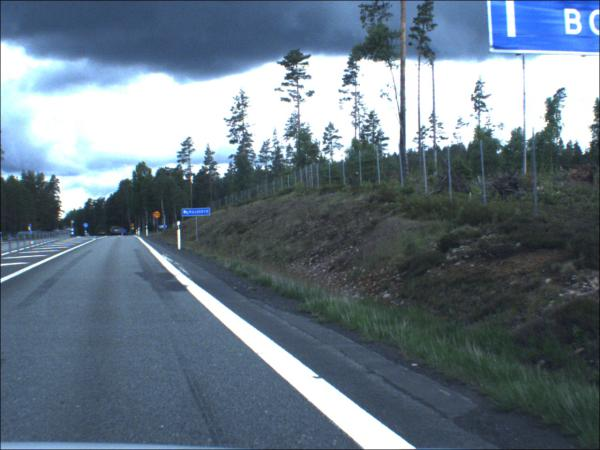70_SIGN: (154, 212, 162, 220), (132, 225, 137, 229)
PASS_RIGHT_SIDE: (84, 224, 91, 230)
PRIORITY_ROAD: (133, 228, 137, 232)
